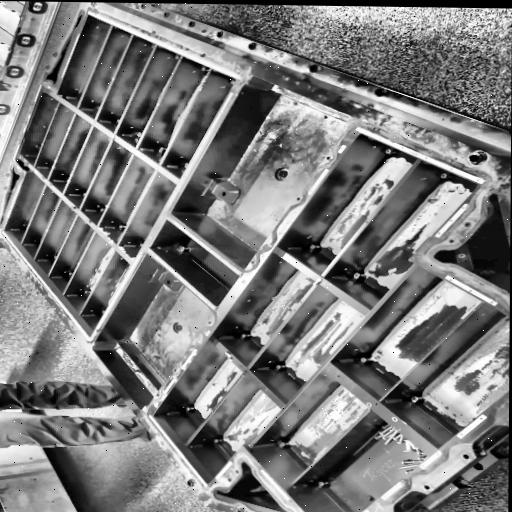b_casing: (0, 1, 511, 512)
